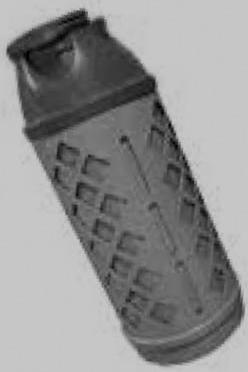cylinder: (1, 1, 248, 372)
